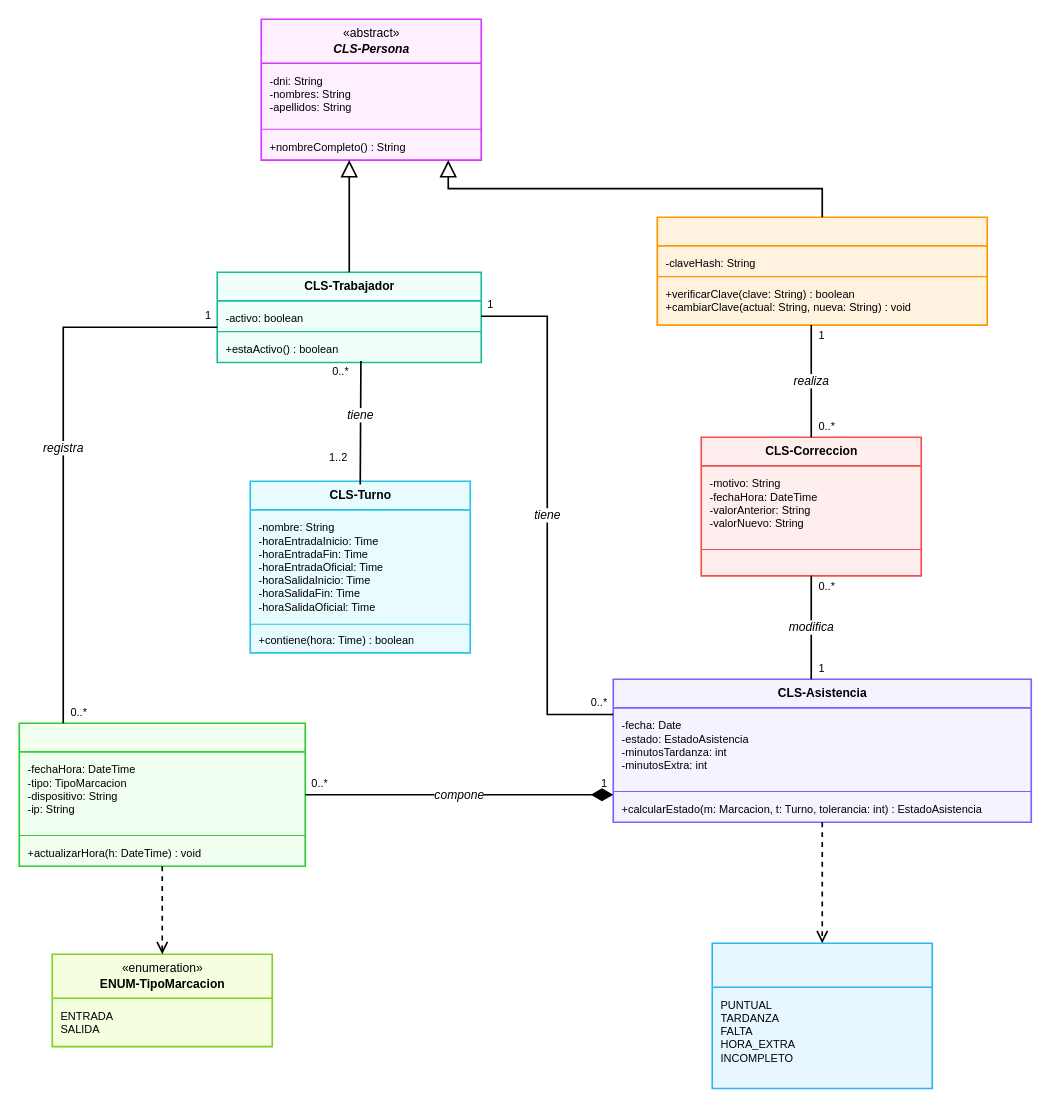
Image size: 1052x1111. Some labels were removed from this diagram. The shapes that lost their labels are listed below. From the top down, each one's box as (x1, y1, x2, y2) in pixels, then its label:
(656, 216, 988, 325): CLS- Administrador
(18, 722, 306, 867): CLS- Marcacion
(711, 942, 933, 1089): «enumeration» ENUM- EstadoAsistencia
